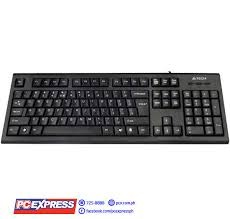keyboard: (1, 74, 230, 148)
